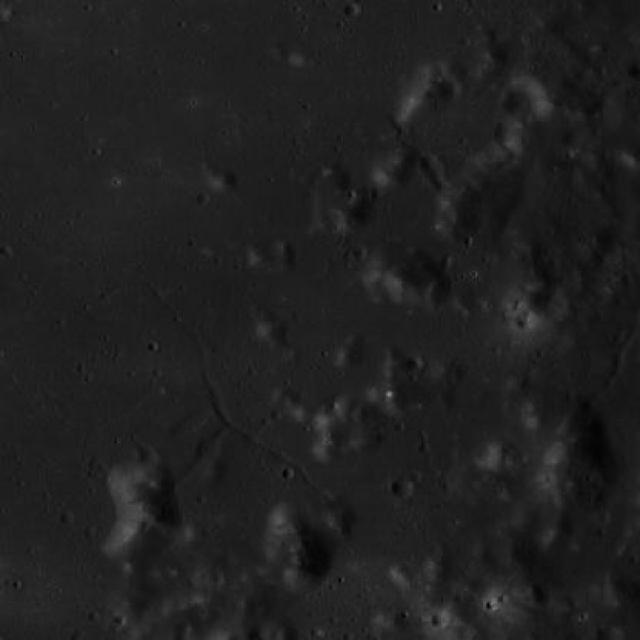crater: (552, 5, 600, 53), (502, 78, 547, 122), (528, 284, 564, 321), (557, 121, 583, 148), (492, 120, 516, 143), (436, 77, 458, 100), (514, 310, 536, 332), (390, 478, 412, 500), (137, 450, 157, 470), (418, 154, 438, 174), (572, 65, 590, 84), (430, 612, 448, 630), (426, 164, 444, 182), (343, 3, 359, 20), (351, 246, 367, 262), (406, 356, 420, 370)
